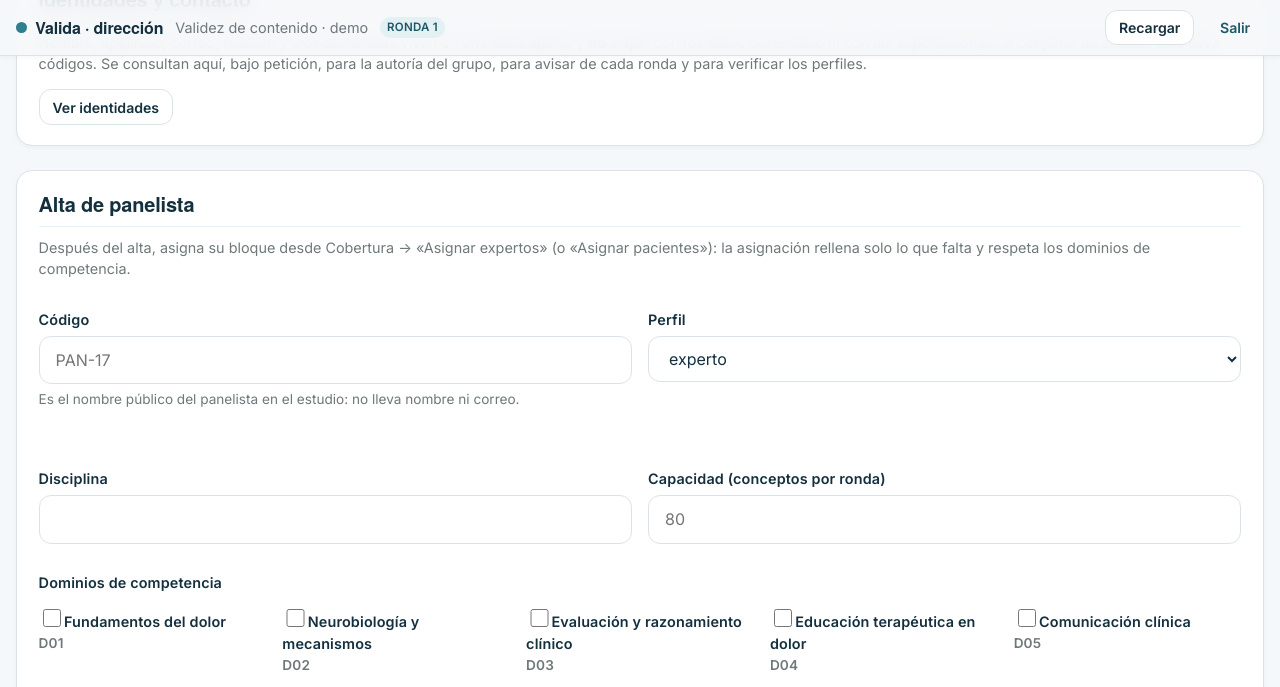
Test case: alta de panelista con correo › sin correo: avisa de que hay que copiarla a mano
The width and height of the screenshot is (1280, 687).
(page scrolled)
Type "PAN-78" into the field labelled "Código".
click(335, 360); type("PAN-78")  # box [39,336,632,384]
(page scrolled)
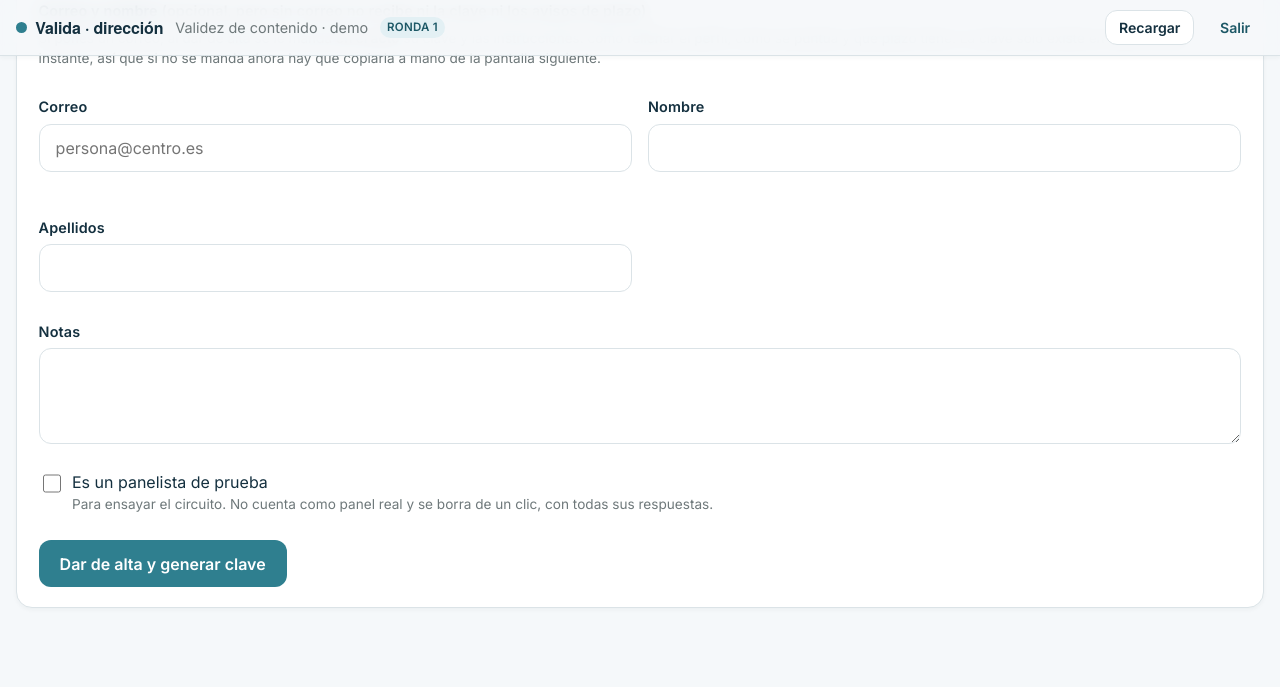
Click the button "Dar de alta y generar clave".
click(163, 564)  # box [39,540,287,587]
(page scrolled)
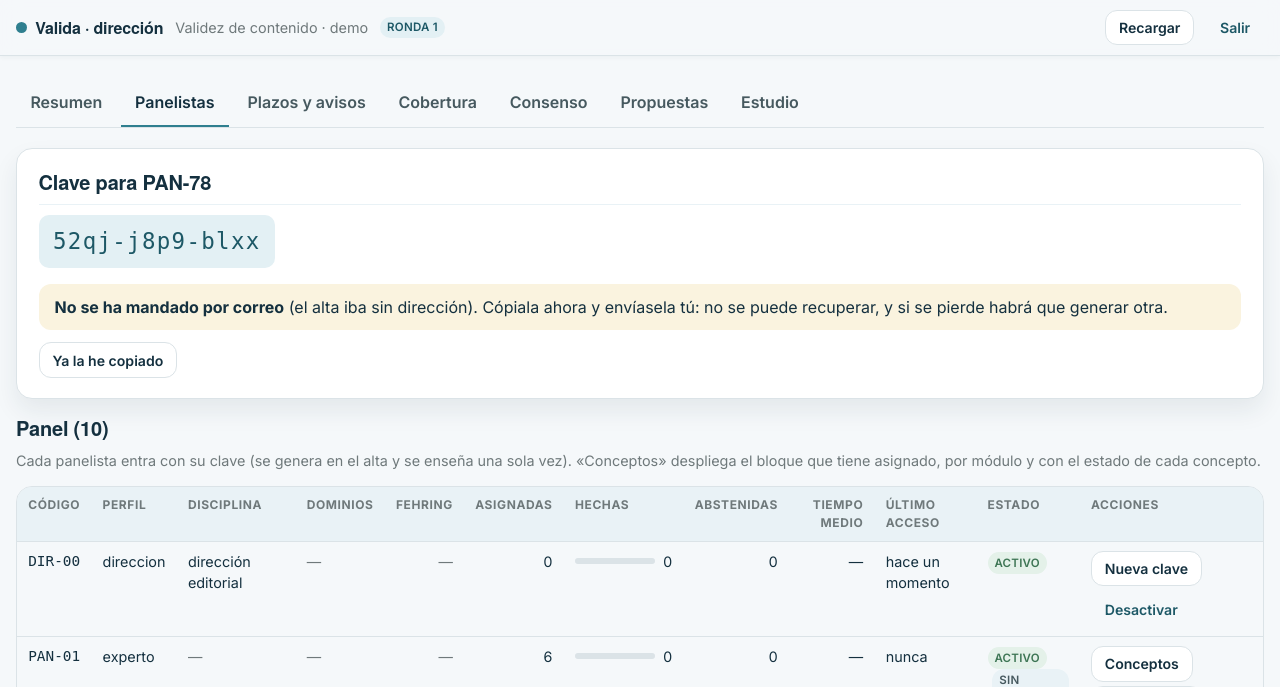
expect the text "No se ha mandado por correo" is shown: met, box [55,297,284,317]
expect the button "Ya la he copiado" is shown: met, box [39,342,177,378]
